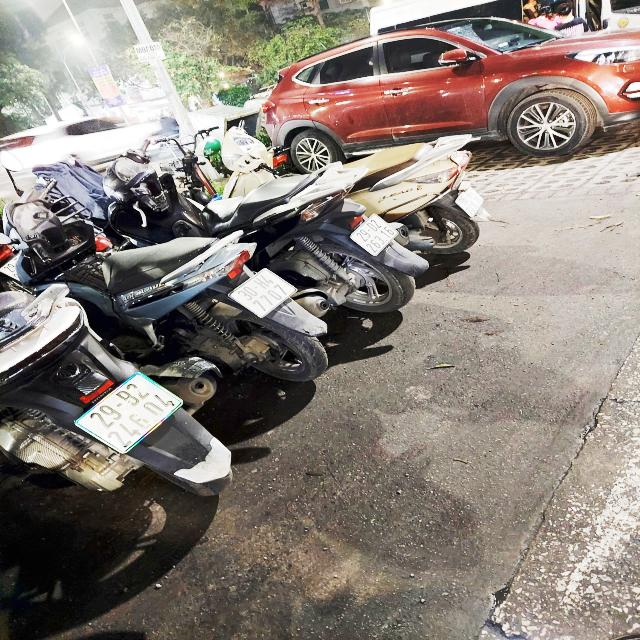license_plate: (71, 369, 193, 462), (226, 268, 300, 321), (350, 213, 401, 258)
